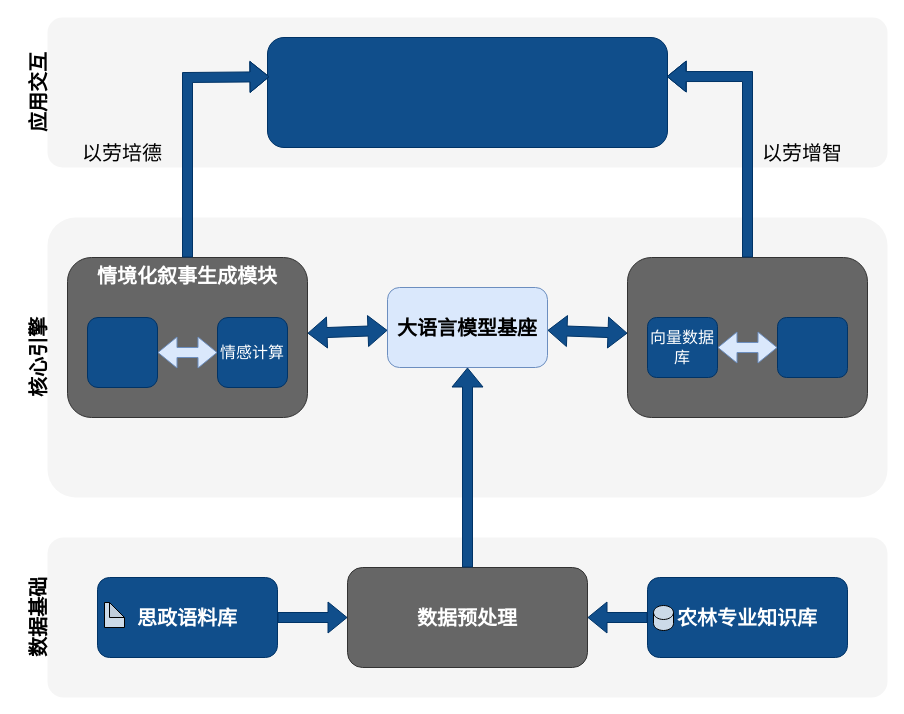
The diagram is 904 pixels wide and 714 high, and some of its shapes have lost their labels. The shapes that lost their labels are listed below. From the top down, each one's box as (x1, y1, x2, y2) in pixels, then its label:
(266, 36, 668, 148): 终端系统
(86, 316, 158, 388): 角色设定提示词
(626, 256, 868, 418): RAG知识增强推理模块
(776, 316, 848, 378): 知识图谱
